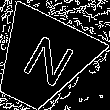N_SW: (9, 30, 73, 93)
